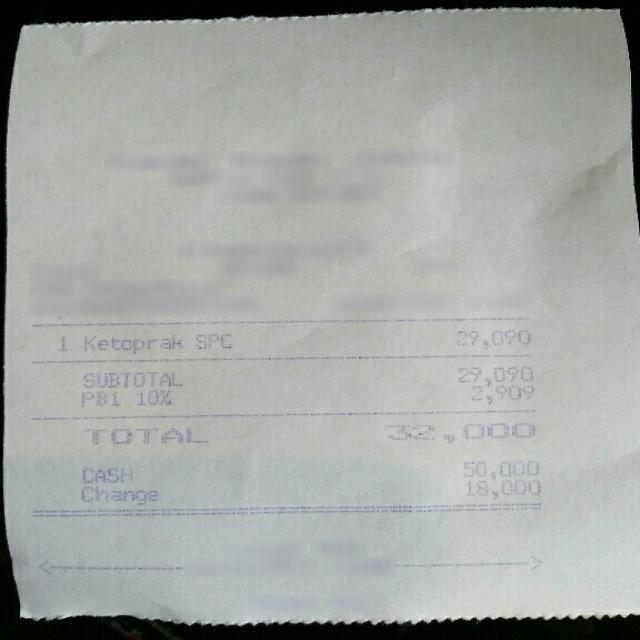kertas: (2, 8, 640, 626)
